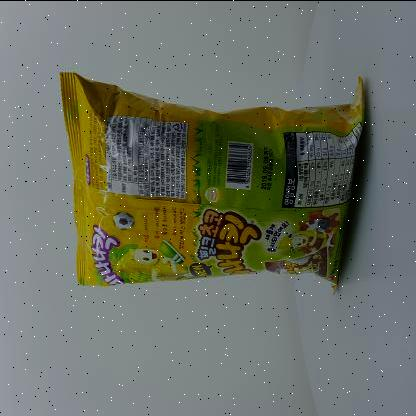Others: (53, 55, 378, 297)
